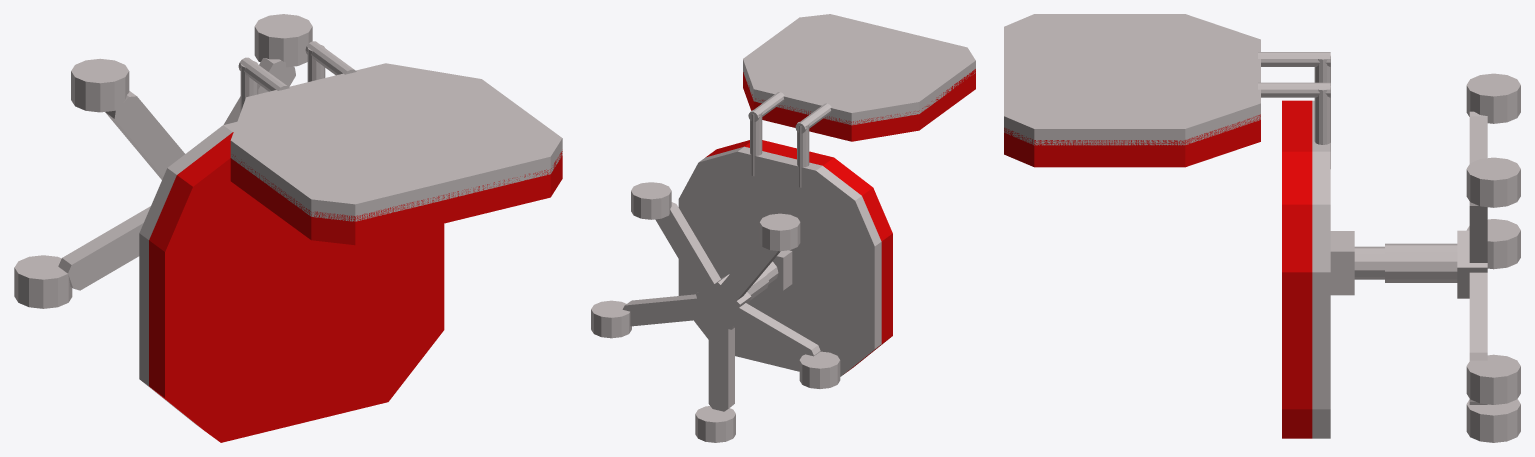
Rendered from _room73b2-chair1-bodyset2.glb.
3 views of the same model, side by side, from view 1: azimuth 30°, elevation 25°; view 2: azimuth 150°, elevation 25°; view 3: azimuth 270°, elevation 25° (orthographic). The views are drawn at different scales.
Bounding box in the file's own units: 0.6217 × 0.6633 × 0.855.
